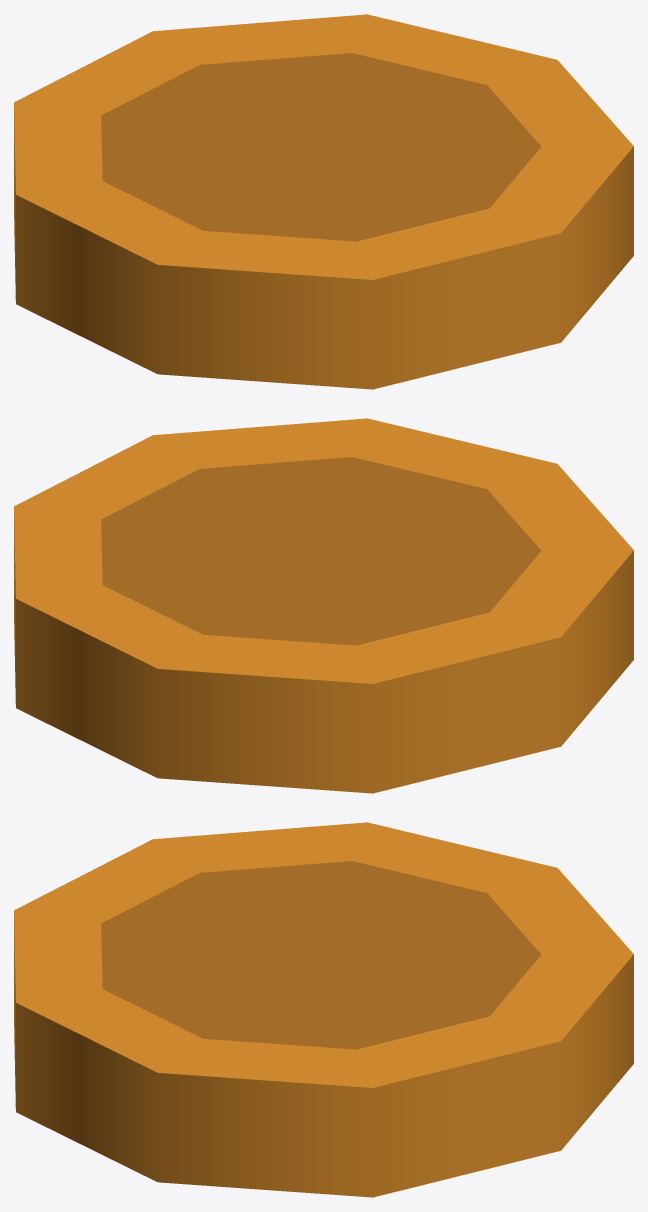
The model's file is Coin.fbx.
3 views of the same model, one above another, from view 1: azimuth 30°, elevation 25°; view 2: azimuth 150°, elevation 25°; view 3: azimuth 270°, elevation 25° (orthographic).
Visible parts, largest first — view 1: Cylinder021; view 2: Cylinder021; view 3: Cylinder021.
Boxes of the visible parts, x1,y1,x2,y2 form: Cylinder021: [14, 14, 633, 389]; Cylinder021: [14, 418, 633, 793]; Cylinder021: [14, 822, 633, 1197].
Size of the model in its own units: 2.3 by 2.26 by 0.4413.
